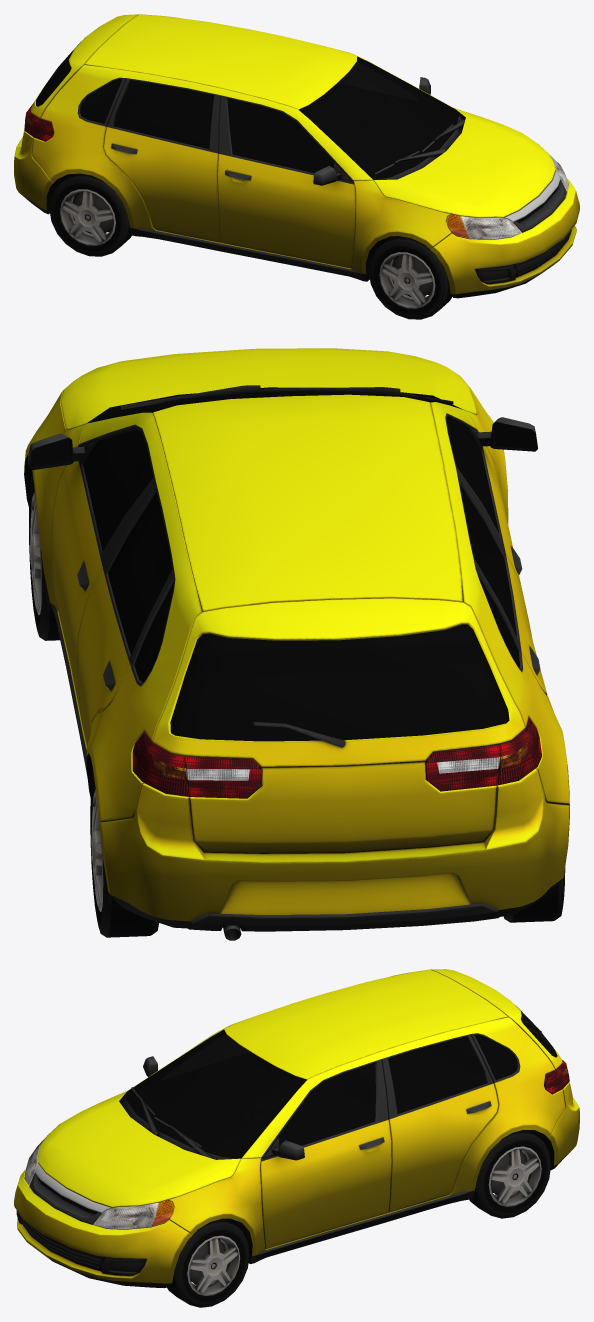
The model's file is hatchback.glb.
3 renders of one model, top to bottom at view 1: azimuth 30°, elevation 25°; view 2: azimuth 150°, elevation 25°; view 3: azimuth 270°, elevation 25°, orthographic. The views are drawn at different scales.
Visible parts, largest first — view 1: Hatchback Body, Wheel_B002, Wheel_B003; view 2: Hatchback Body, Wheel_B001, Wheel_B, Wheel_B003; view 3: Hatchback Body, Wheel_B, Wheel_B001.
Part boxes in pixels (bbox=[...]): Hatchback Body: bbox=[14, 14, 579, 298]; Wheel_B002: bbox=[369, 236, 452, 319]; Wheel_B003: bbox=[49, 173, 131, 256]; Hatchback Body: bbox=[24, 348, 569, 940]; Wheel_B001: bbox=[90, 772, 158, 937]; Wheel_B: bbox=[29, 473, 59, 640]; Wheel_B003: bbox=[503, 868, 565, 922]; Hatchback Body: bbox=[14, 969, 579, 1287]; Wheel_B: bbox=[167, 1218, 249, 1307]; Wheel_B001: bbox=[469, 1130, 550, 1218].
Bounding box in the file's own units: 3.11 × 1.35 × 3.7.
Materials: 4 (3 with a texture image).
